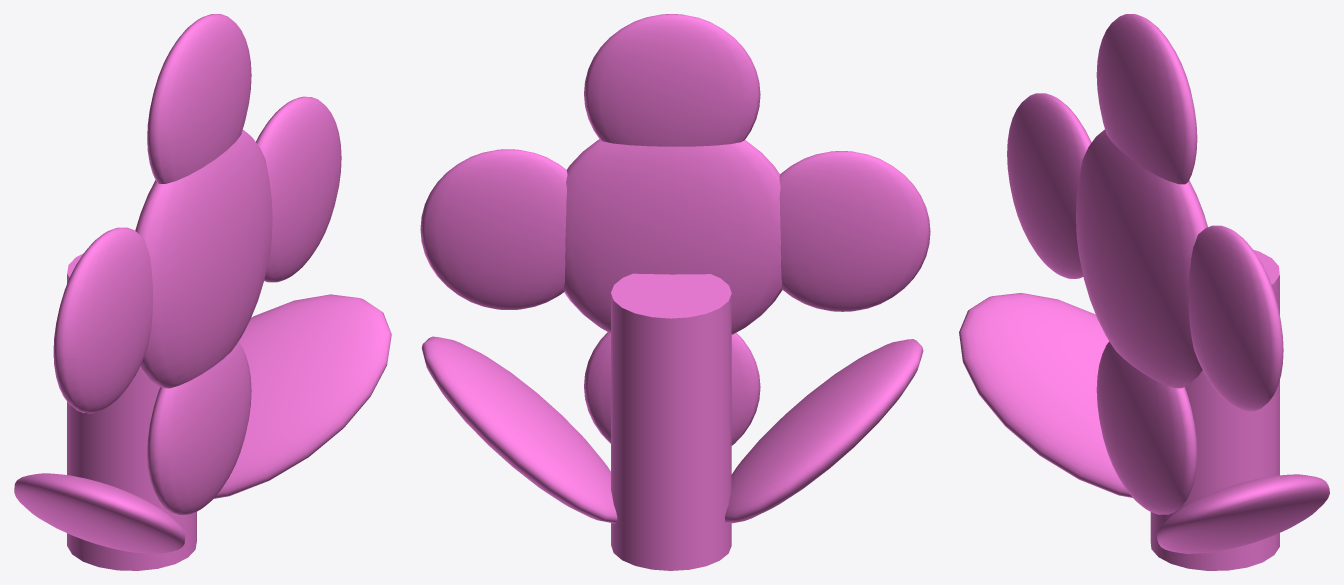
The model's file is Flower.fbx.
3 renders of one model, left to right at view 1: azimuth 30°, elevation 25°; view 2: azimuth 150°, elevation 25°; view 3: azimuth 270°, elevation 25°, orthographic. The views are drawn at different scales.
Visible parts, largest first — view 1: pCylinder2; view 2: pCylinder2; view 3: pCylinder2.
Part boxes in pixels (box(x1,y1,x2,y2)): pCylinder2: box(14, 14, 391, 570); pCylinder2: box(420, 14, 930, 570); pCylinder2: box(959, 14, 1329, 570).
Size of the model in its own units: 1.2 by 1.43 by 0.8913.
